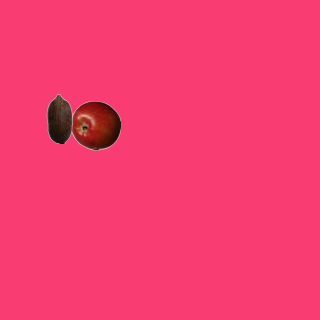Apple Braeburn: (70, 100, 120, 150)
Nut Pecan: (34, 93, 84, 143)
